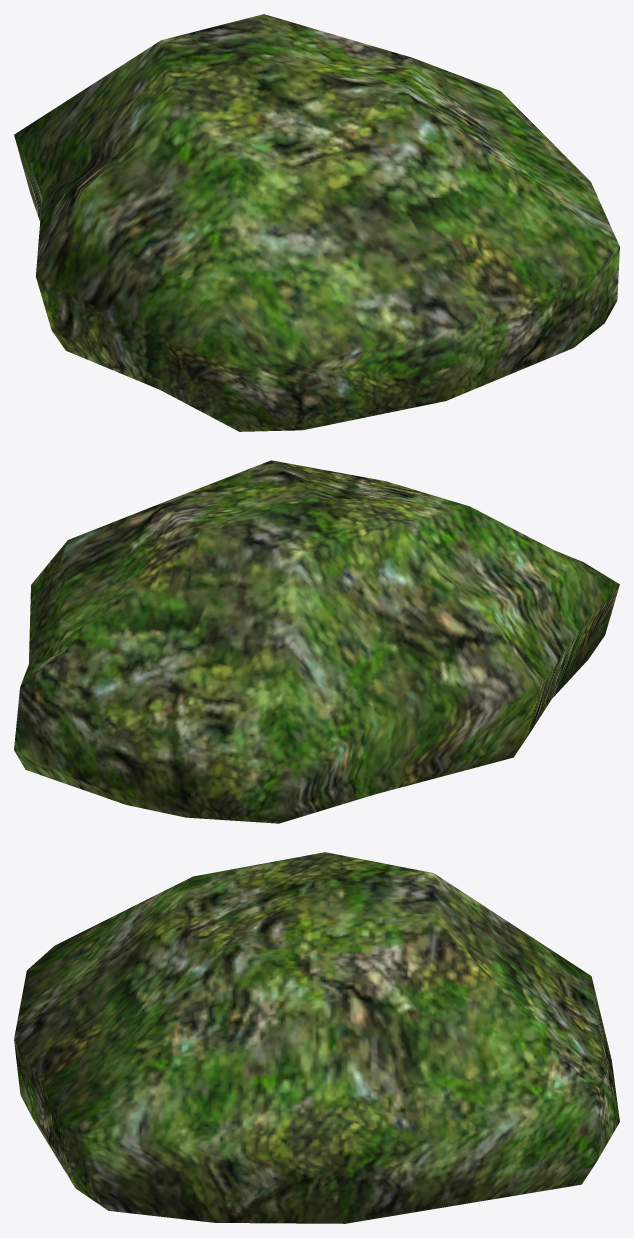
The model's file is frst_rock_mossy_lg_l0.fbx.
3 views of the same model, one above another, from view 1: azimuth 30°, elevation 25°; view 2: azimuth 150°, elevation 25°; view 3: azimuth 270°, elevation 25° (orthographic). The views are drawn at different scales.
Visible parts, largest first — view 1: mesh_node; view 2: mesh_node; view 3: mesh_node.
Boxes of the visible parts, bbox=[...] form: mesh_node: bbox=[14, 14, 619, 431]; mesh_node: bbox=[14, 460, 619, 823]; mesh_node: bbox=[14, 852, 619, 1223].
Bounding box in the file's own units: 1.99 × 0.8572 × 2.12.
